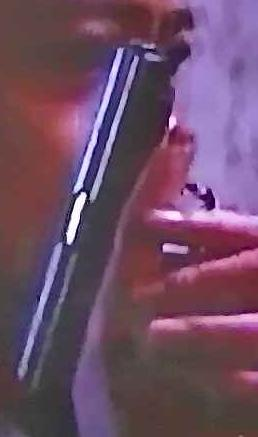gun: (1, 1, 258, 437)
